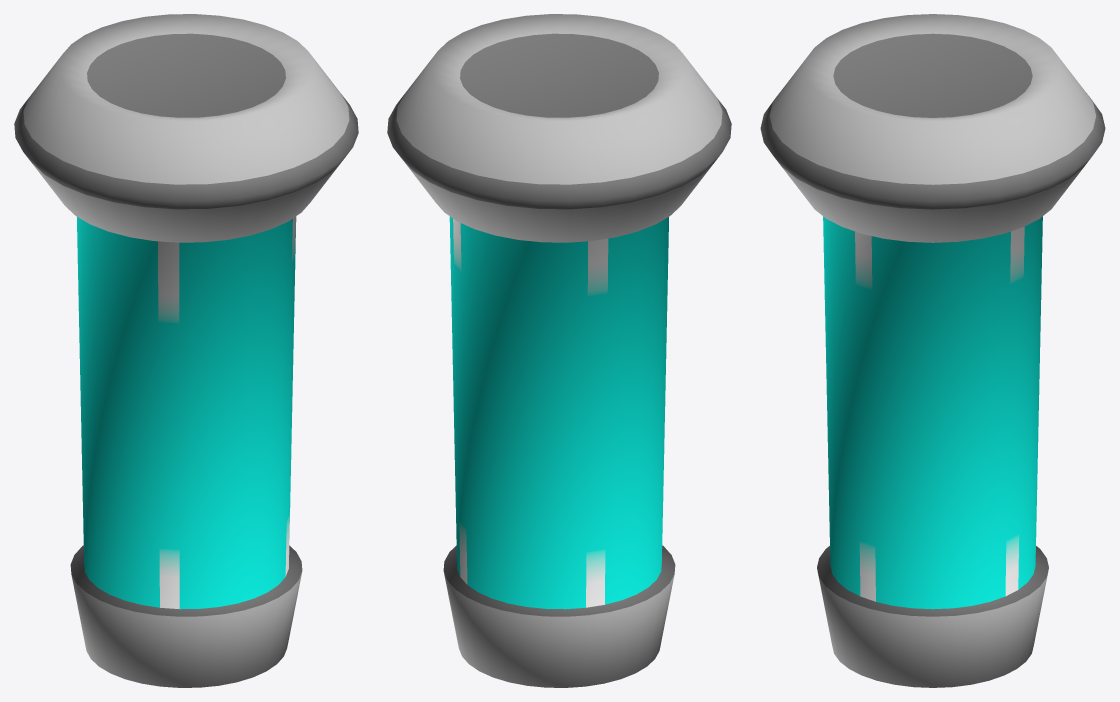
Rendered from Ammo_Pickup.fbx.
3 views of the same model, side by side, from view 1: azimuth 30°, elevation 25°; view 2: azimuth 150°, elevation 25°; view 3: azimuth 270°, elevation 25° (orthographic).
Parts seen in each view (by area): view 1: Cylinder.008; view 2: Cylinder.008; view 3: Cylinder.008.
Boxes of the visible parts, <box> form: Cylinder.008: <box>14,14,358,687</box>; Cylinder.008: <box>387,14,731,687</box>; Cylinder.008: <box>760,14,1105,687</box>.
Size of the model in its own units: 41.88 by 77.31 by 41.88.
